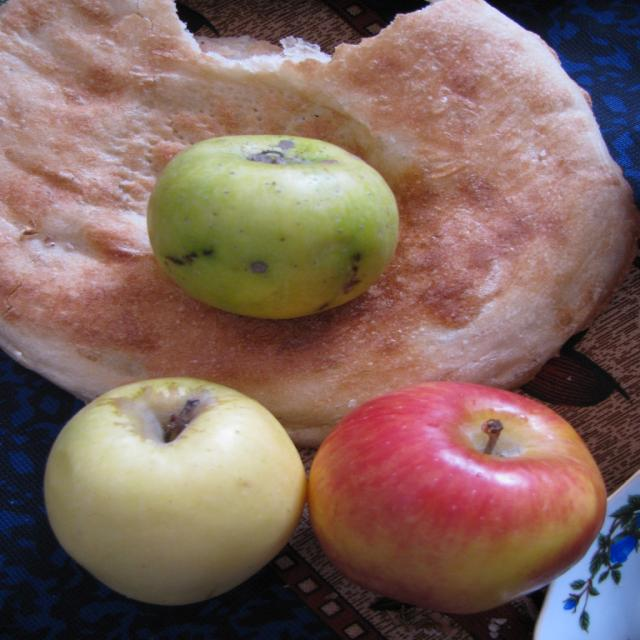Healty Apple: (307, 379, 609, 616), (49, 378, 306, 609), (143, 139, 401, 321)
